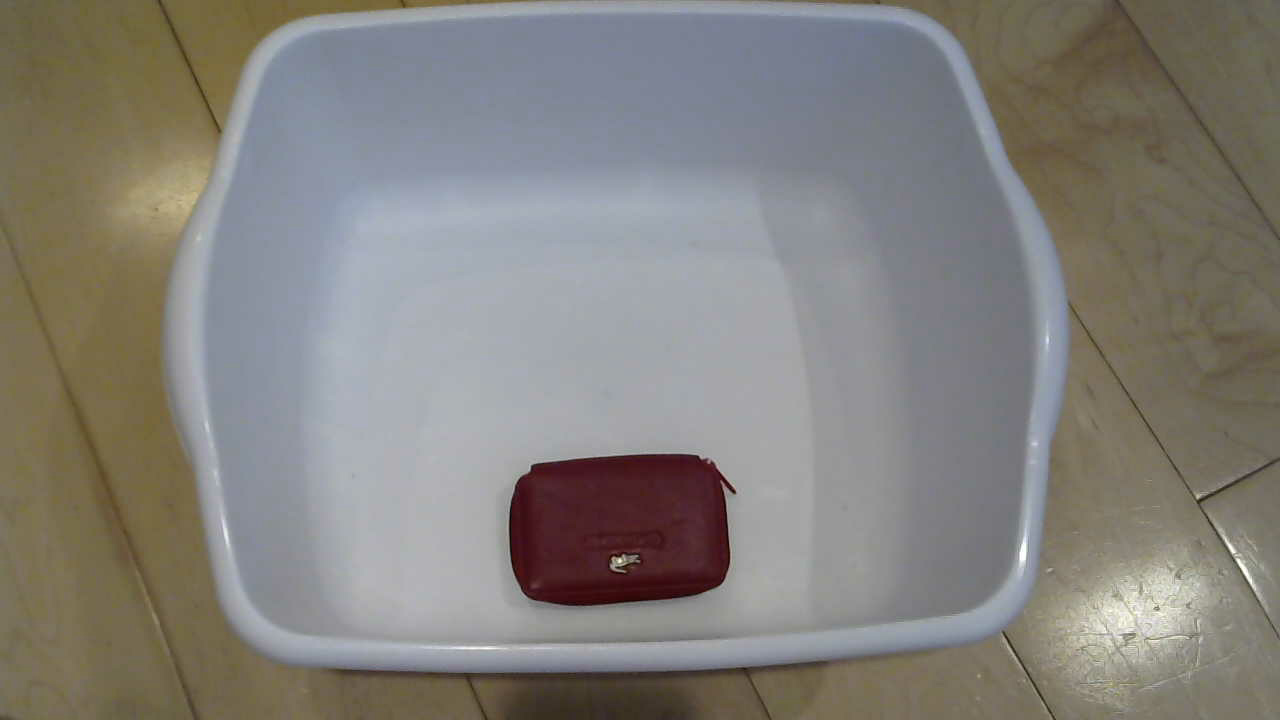wallet: (493, 456, 738, 625)
